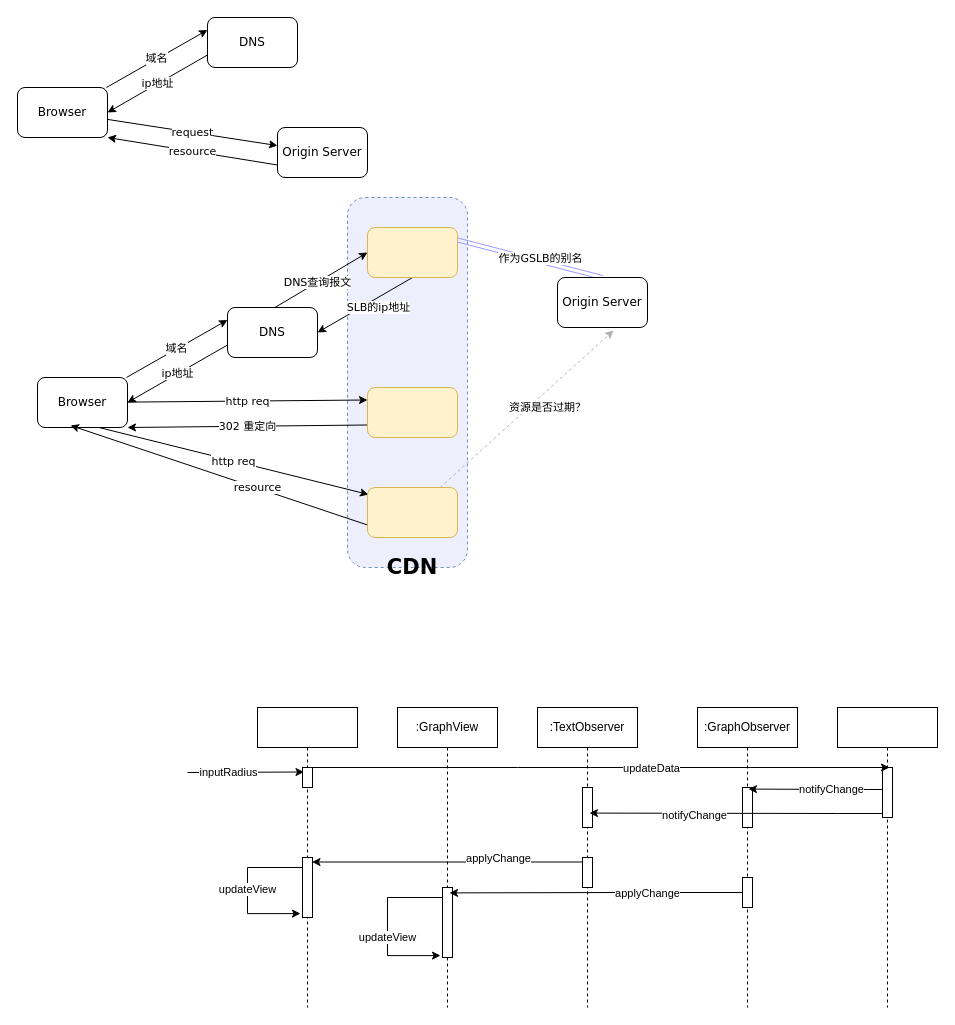
This 955x1025 diagram has some shape labels left out. Each missing label, with the box of its shape:
:RadiusData: (836, 706, 938, 1008)
:TextView: (256, 706, 358, 1008)
GSLB: (366, 226, 458, 278)
SLB: (366, 386, 458, 438)
网络边缘 缓存结点: (366, 486, 458, 538)
